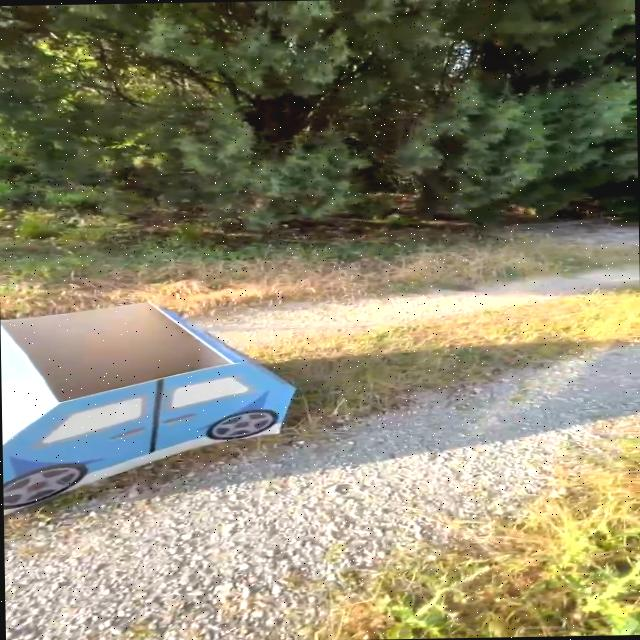blue_car: (0, 255, 365, 542)
